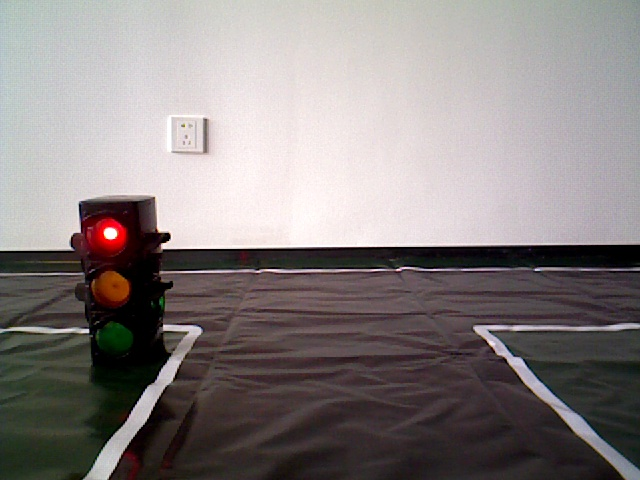red: (80, 206, 152, 370)
